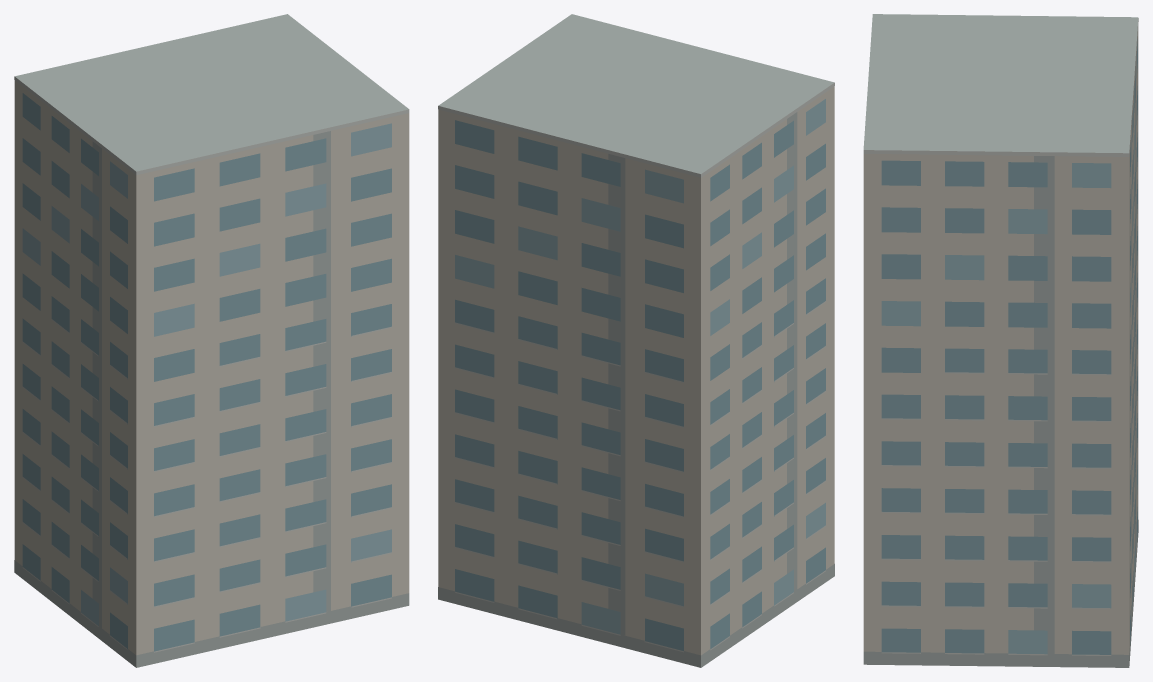
File: residential-efbb56ae-74ef-4fdc-b790-2c4e73c83649.glb
The picture shows the model from 3 angles, left to right: view 1: azimuth 30°, elevation 25°; view 2: azimuth 150°, elevation 25°; view 3: azimuth 270°, elevation 25°; orthographic projection. The views are drawn at different scales.
Visible parts, largest first — view 1: residential-efbb56ae-74ef-4fdc-b790-2c4e73c83649.tmp; view 2: residential-efbb56ae-74ef-4fdc-b790-2c4e73c83649.tmp; view 3: residential-efbb56ae-74ef-4fdc-b790-2c4e73c83649.tmp.
Boxes of the visible parts, x1,y1,x2,y2 form: residential-efbb56ae-74ef-4fdc-b790-2c4e73c83649.tmp: (14, 14, 409, 667); residential-efbb56ae-74ef-4fdc-b790-2c4e73c83649.tmp: (438, 14, 834, 667); residential-efbb56ae-74ef-4fdc-b790-2c4e73c83649.tmp: (863, 14, 1138, 667).
Bounding box in the file's own units: 19.15 × 33 × 15.99.
